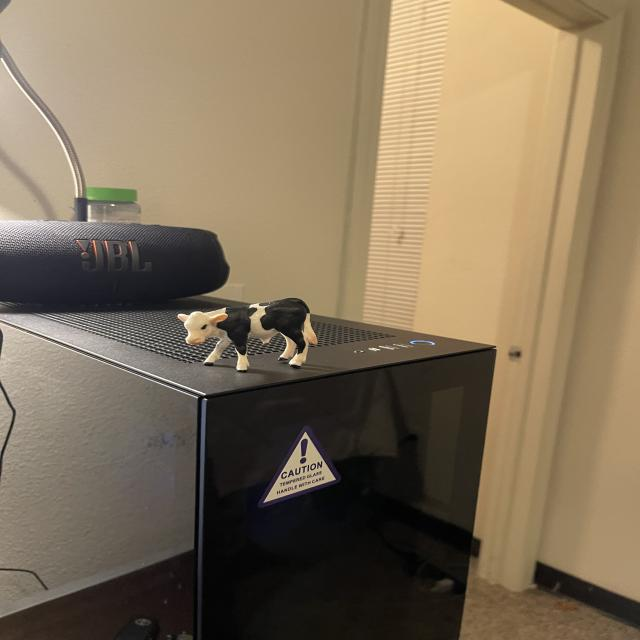cow: (177, 296, 319, 377)
